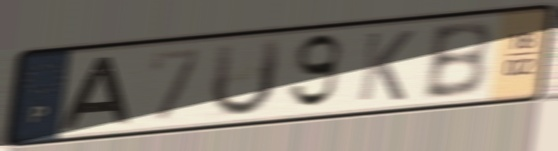7: (146, 44, 203, 125)
9: (283, 32, 346, 113)
A: (56, 54, 134, 131)
B: (419, 18, 496, 103)
K: (354, 28, 418, 105)
U: (207, 34, 286, 121)
